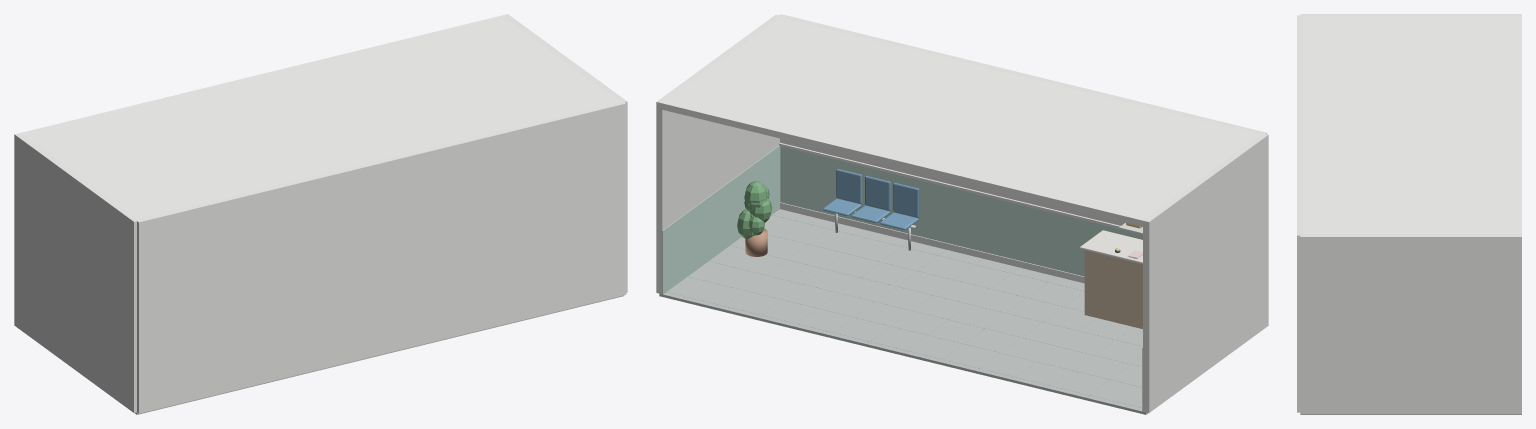
File: clinic_inside.glb
3 views of the same model, side by side, from view 1: azimuth 30°, elevation 25°; view 2: azimuth 150°, elevation 25°; view 3: azimuth 270°, elevation 25° (orthographic). The views are drawn at different scales.
Visible parts, largest first — view 1: clinic_inside; view 2: clinic_inside; view 3: clinic_inside.
Boxes of the visible parts, bbox=[...] form: clinic_inside: bbox=[14, 14, 627, 414]; clinic_inside: bbox=[656, 14, 1268, 414]; clinic_inside: bbox=[1297, 14, 1521, 414].
Bounding box in the file's own units: 8.1 × 3.04 × 3.45.
